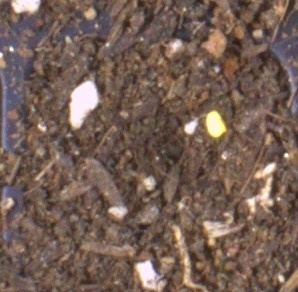chilli seed: (206, 109, 227, 137)
